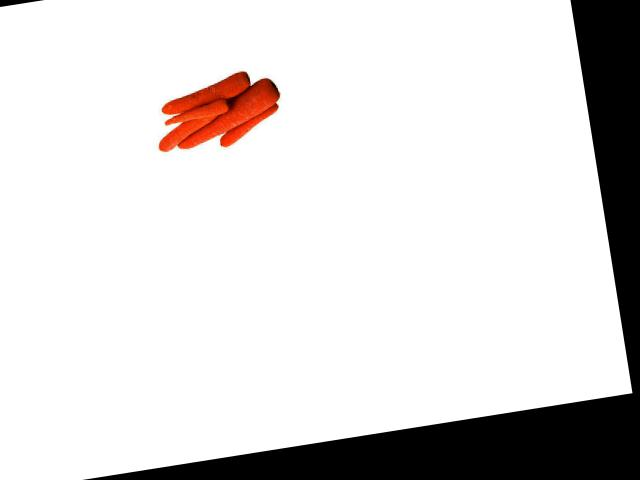carrot: (154, 73, 256, 112)
